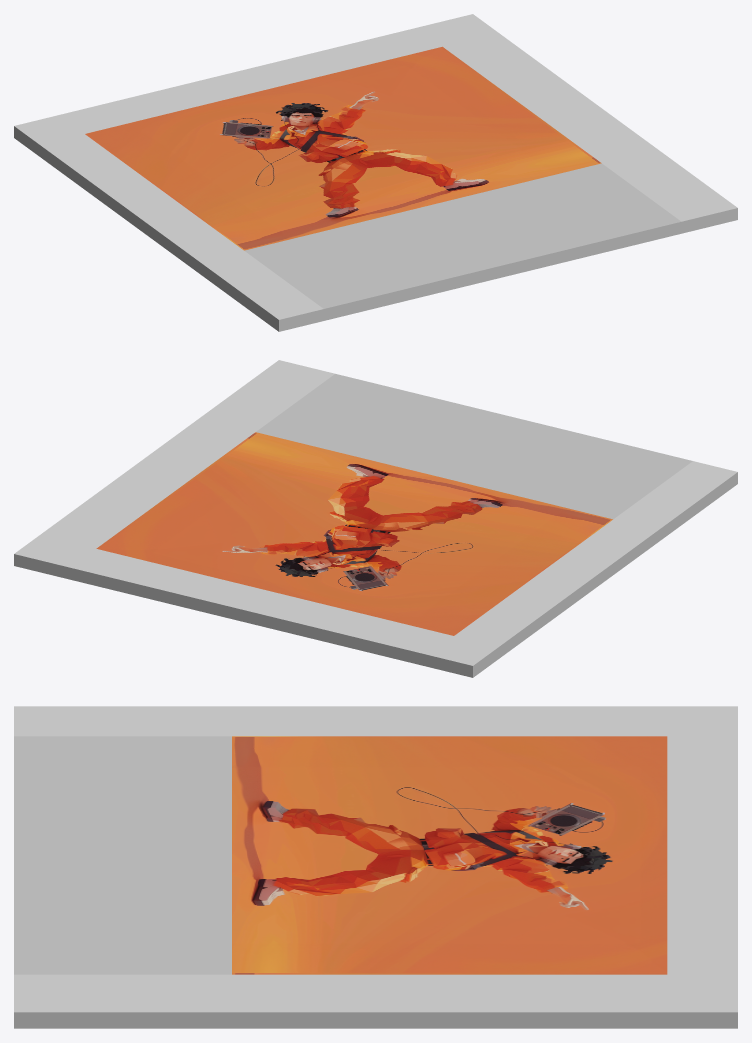
The model's file is Polaroid_Tuti.fbx.
3 renders of one model, top to bottom at view 1: azimuth 30°, elevation 25°; view 2: azimuth 150°, elevation 25°; view 3: azimuth 270°, elevation 25°, orthographic. The views are drawn at different scales.
Visible parts, largest first — view 1: Plane.001; view 2: Plane.001; view 3: Plane.001.
Part boxes in pixels (x1,y1,x2,y2): Plane.001: (14, 14, 737, 331); Plane.001: (14, 360, 737, 677); Plane.001: (14, 706, 737, 1028).
Bounding box in the file's own units: 400 × 10 × 400.
